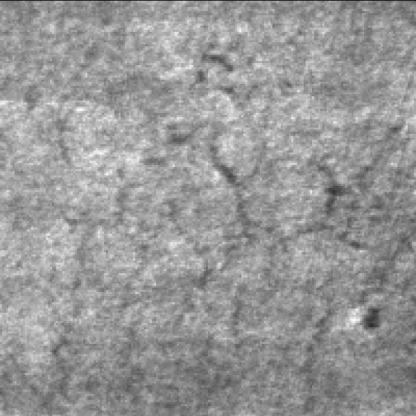crazing: (193, 96, 332, 349), (283, 116, 401, 335)
